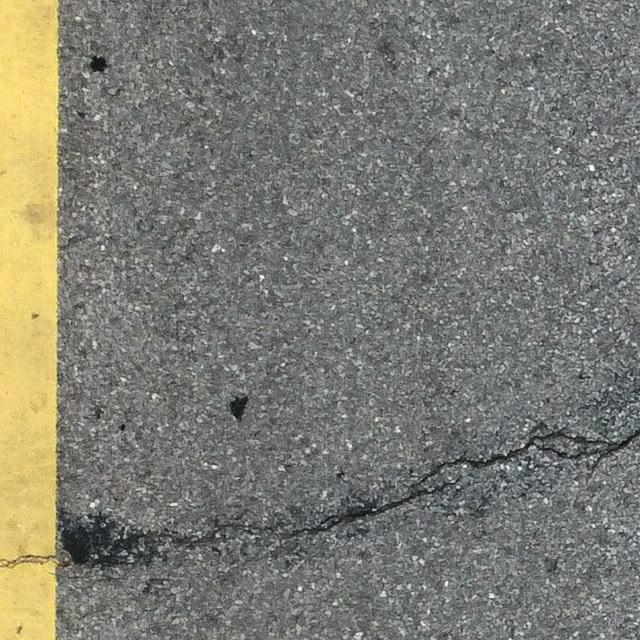TransverseCrack: (1, 428, 640, 569)
